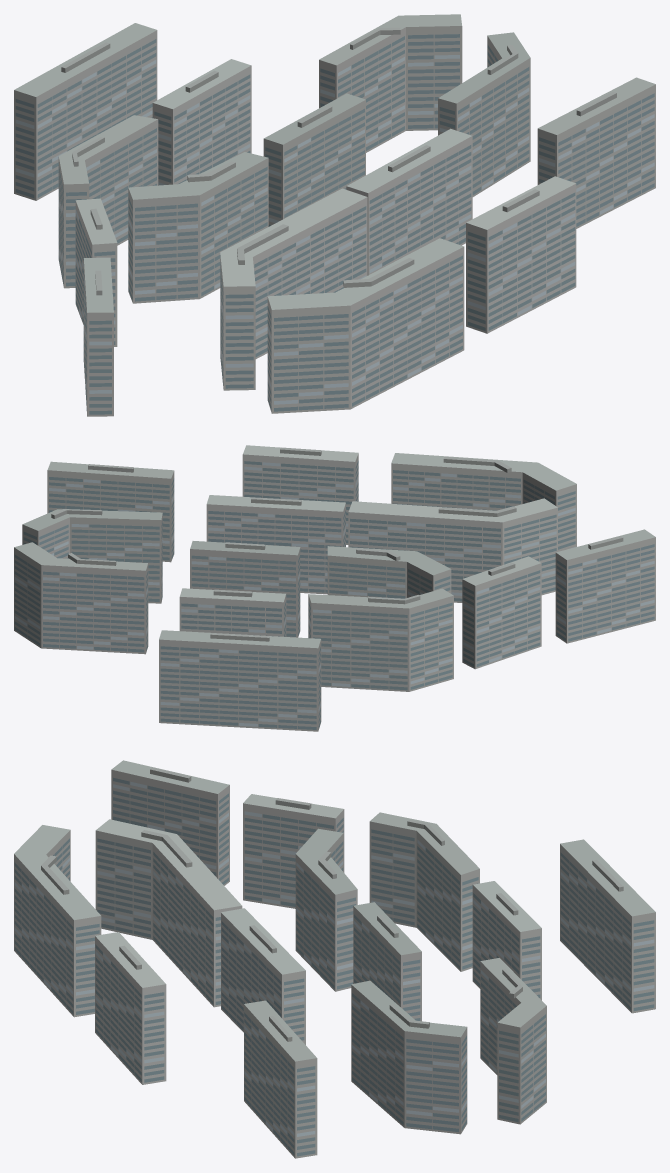
Rendered from apt-a13524009.glb.
3 renders of one model, top to bottom at view 1: azimuth 30°, elevation 25°; view 2: azimuth 150°, elevation 25°; view 3: azimuth 270°, elevation 25°, orthographic. The views are drawn at different scales.
Parts seen in each view (by area): view 1: apt-a13524009; view 2: apt-a13524009; view 3: apt-a13524009.
Part boxes in pixels (bbox=[...]): apt-a13524009: bbox=[14, 14, 655, 416]; apt-a13524009: bbox=[14, 445, 655, 731]; apt-a13524009: bbox=[14, 760, 655, 1158].
Size of the model in its own units: 305 by 47.81 by 274.
